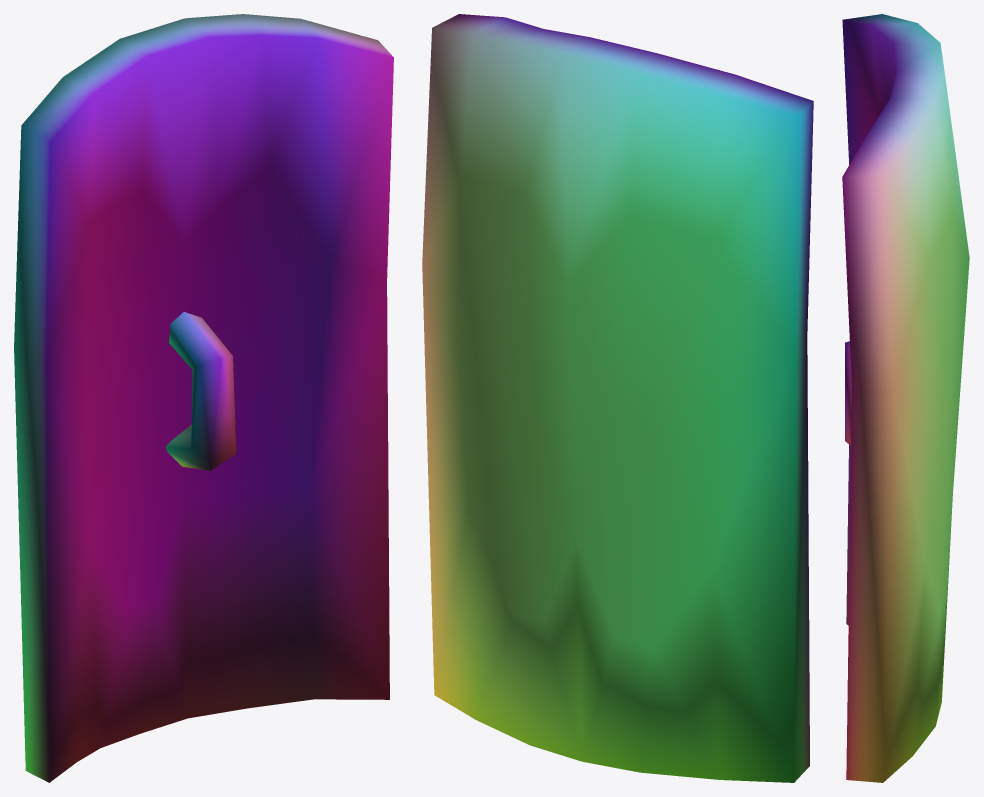
Rendered from SM_MonWeapon_TowerShield_LOD1.fbx.
The picture shows the model from 3 angles, left to right: view 1: azimuth 30°, elevation 25°; view 2: azimuth 150°, elevation 25°; view 3: azimuth 270°, elevation 25°; orthographic projection. The views are drawn at different scales.
Parts seen in each view (by area): view 1: SM_MonWeapon_TowerShield_LOD1; view 2: SM_MonWeapon_TowerShield_LOD1; view 3: SM_MonWeapon_TowerShield_LOD1.
Boxes of the visible parts, x1,y1,x2,y2 form: SM_MonWeapon_TowerShield_LOD1: (14,14,393,782); SM_MonWeapon_TowerShield_LOD1: (422,14,813,782); SM_MonWeapon_TowerShield_LOD1: (842,14,969,782).
Bounding box in the file's own units: 0.6144 × 1.11 × 0.2.
